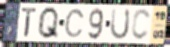9: (87, 7, 105, 41)
C: (130, 8, 152, 41), (64, 8, 85, 39)
Q: (36, 6, 60, 40)
T: (21, 7, 38, 38)
U: (109, 7, 132, 41)
